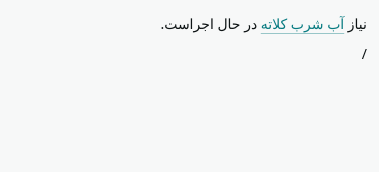
Scenario: links in assistant answers › a record of this answer is an in-app link with its type for screen readers
Click the link with aria-label "نیاز اجتماعی: آب شرب روستای کلاته": (302, 24) x1=261 y1=14 x2=344 y2=33
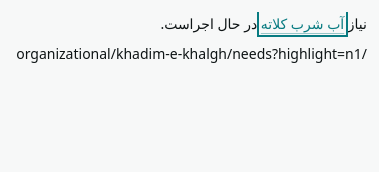
Expected: the text named "مسیر" reads "/organizational/khadim-e-khalgh/needs?highlight=n1", x1=16 y1=44 x2=367 y2=63
